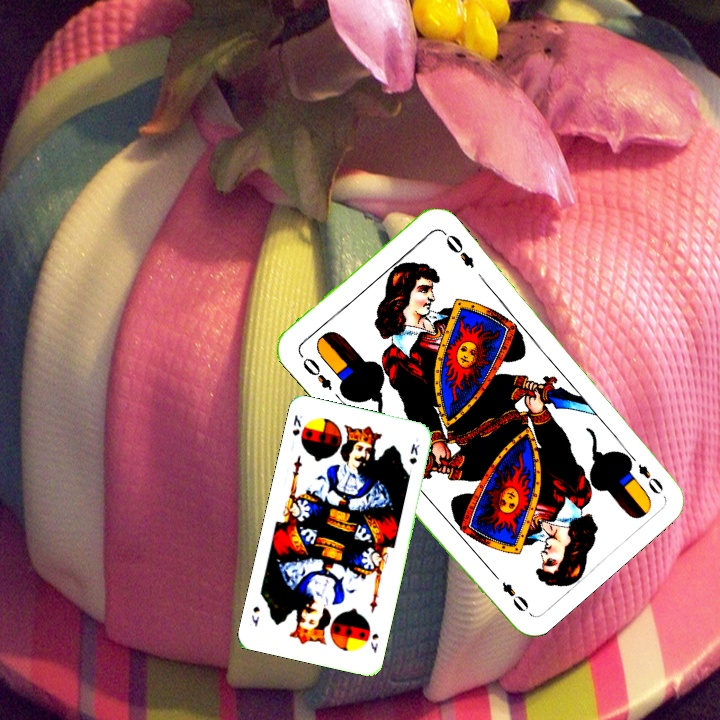EO: (298, 353, 335, 393), (633, 459, 666, 497)
SK: (288, 410, 305, 438), (366, 629, 381, 655)
